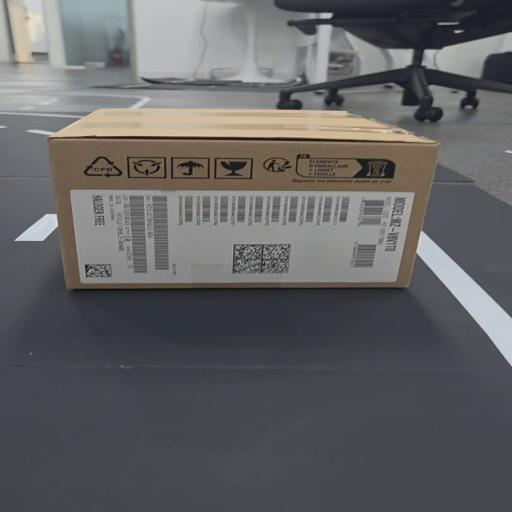Box: (34, 105, 444, 308)
